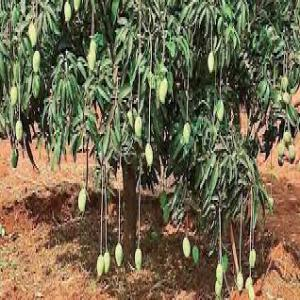Tree: (1, 2, 298, 298)
